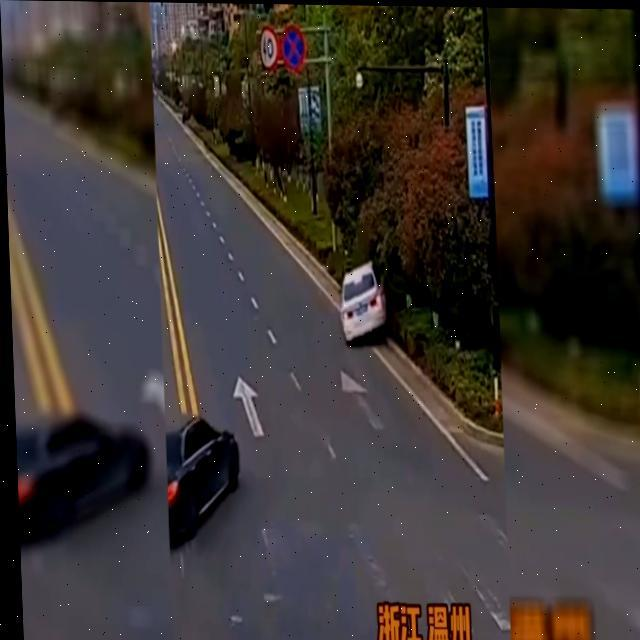normal: (160, 382, 257, 557)
single accident: (303, 207, 440, 370)
